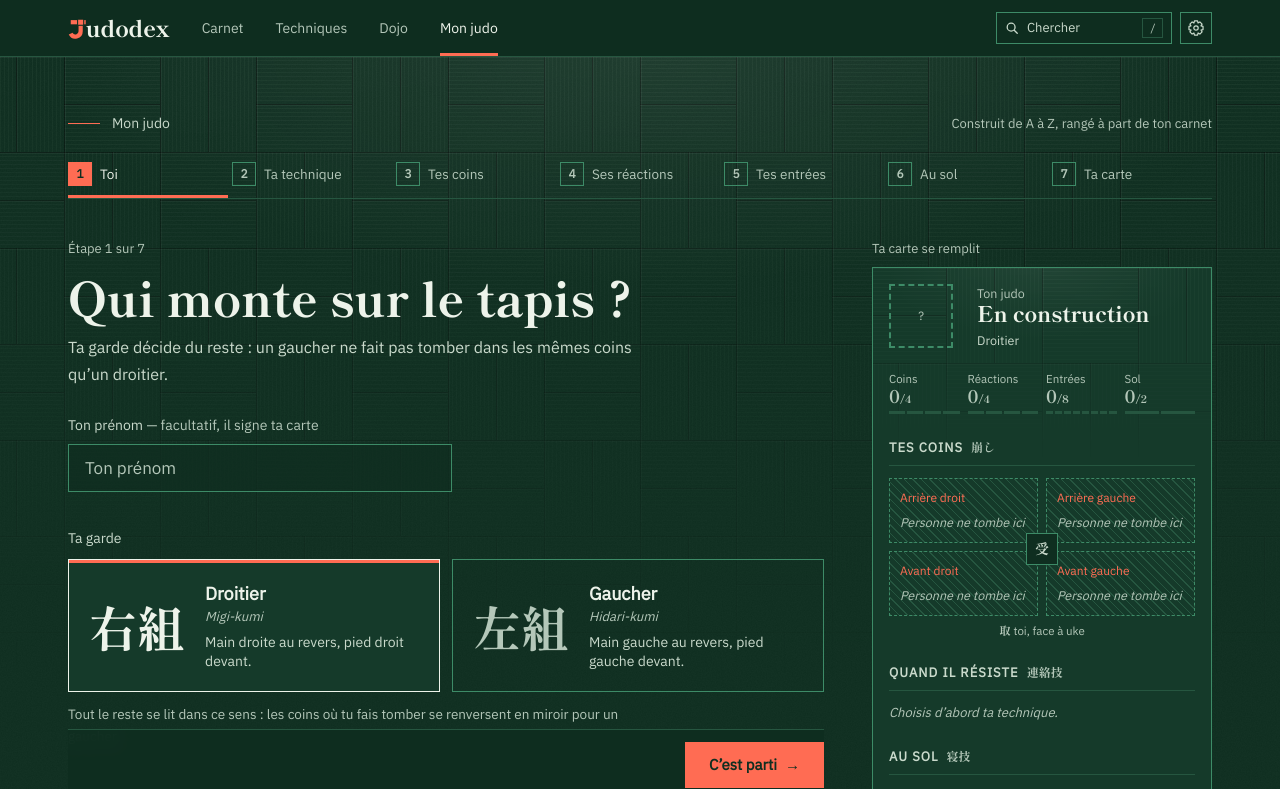
Test case: Mon judo, construit de A à Z › part d’une page blanche, sans rien lire du carnet
Check: the heading "Qui monte sur le tapis ?" is shown, box left=68, top=260, right=632, bottom=330
Click the button "3 Tes coins" at (476, 174), box left=396, top=150, right=556, bottom=198
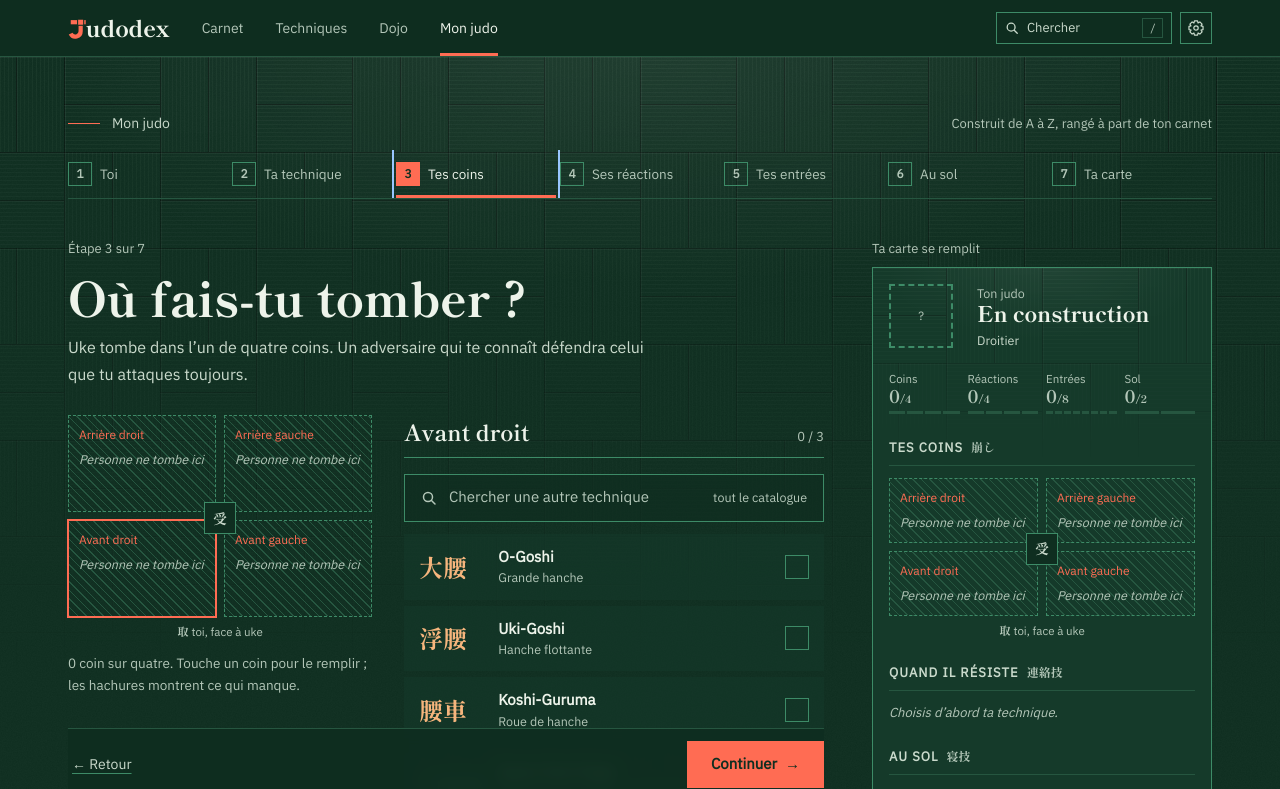
Check: the heading "Où fais-tu tomber ?" is shown, box left=68, top=260, right=527, bottom=330
